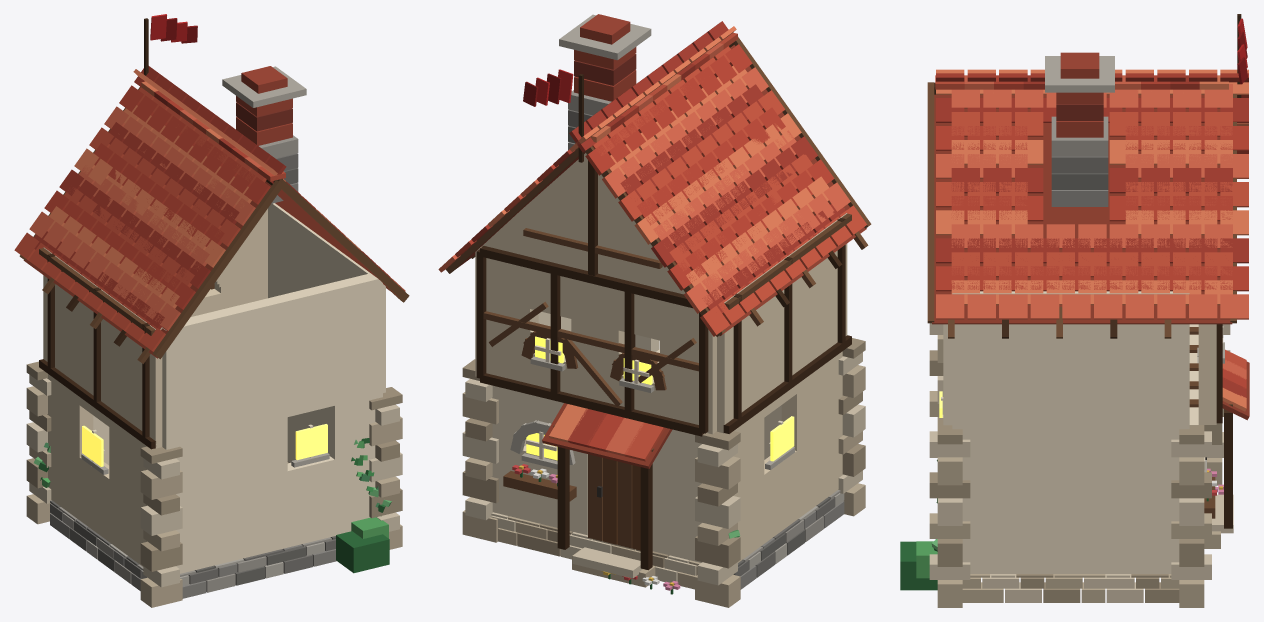
Rendered from vn_building_timber_cottage.glb.
3 renders of one model, left to right at view 1: azimuth 30°, elevation 25°; view 2: azimuth 150°, elevation 25°; view 3: azimuth 270°, elevation 25°, orthographic. The views are drawn at different scales.
Parts seen in each view (by area): view 1: timber_walls, timber_roof, timber_stone, timber_chimney, timber_roof_wood, timber_side_frame, timber_veg, timber_windows, timber_deco; view 2: timber_walls, timber_roof, timber_stone, timber_frame, timber_chimney, timber_side_frame, timber_deco, timber_doors, timber_roof_wood, timber_windows, timber_veg; view 3: timber_roof, timber_walls, timber_stone, timber_chimney, timber_roof_wood, timber_deco, timber_veg, timber_frame.
Part boxes in pixels (x1,y1,x2,y2): timber_walls: (43, 203, 385, 573); timber_roof: (14, 66, 405, 358); timber_stone: (26, 361, 402, 607); timber_chimney: (222, 66, 306, 203); timber_roof_wood: (19, 87, 409, 363); timber_side_frame: (39, 248, 155, 449); timber_veg: (34, 438, 391, 573); timber_windows: (81, 424, 329, 474); timber_deco: (144, 14, 197, 75); timber_walls: (475, 153, 847, 562); timber_roof: (438, 21, 866, 468); timber_stone: (462, 338, 865, 607); timber_frame: (476, 160, 708, 436); timber_chimney: (559, 14, 651, 150); timber_side_frame: (723, 213, 851, 433); timber_deco: (503, 69, 653, 570); timber_doors: (588, 454, 640, 550); timber_roof_wood: (446, 37, 871, 336); timber_windows: (521, 336, 794, 469); timber_veg: (512, 464, 740, 594); timber_roof: (932, 69, 1249, 420); timber_walls: (943, 291, 1216, 573); timber_stone: (929, 323, 1233, 607); timber_chimney: (1045, 52, 1114, 206); timber_roof_wood: (927, 82, 1236, 338); timber_deco: (1189, 14, 1247, 528); timber_veg: (900, 459, 1223, 590); timber_frame: (1216, 324, 1222, 423).
Size of the model in its own units: 3.1 by 5.13 by 3.09.
